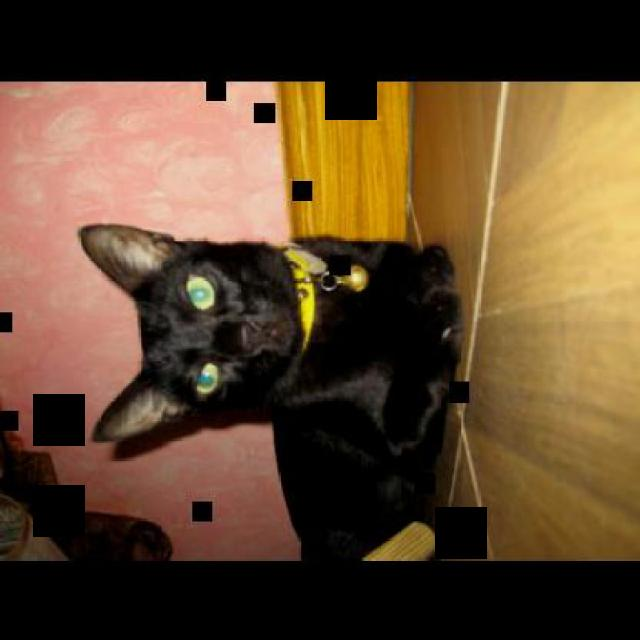unauthorized: (77, 222, 463, 560)
